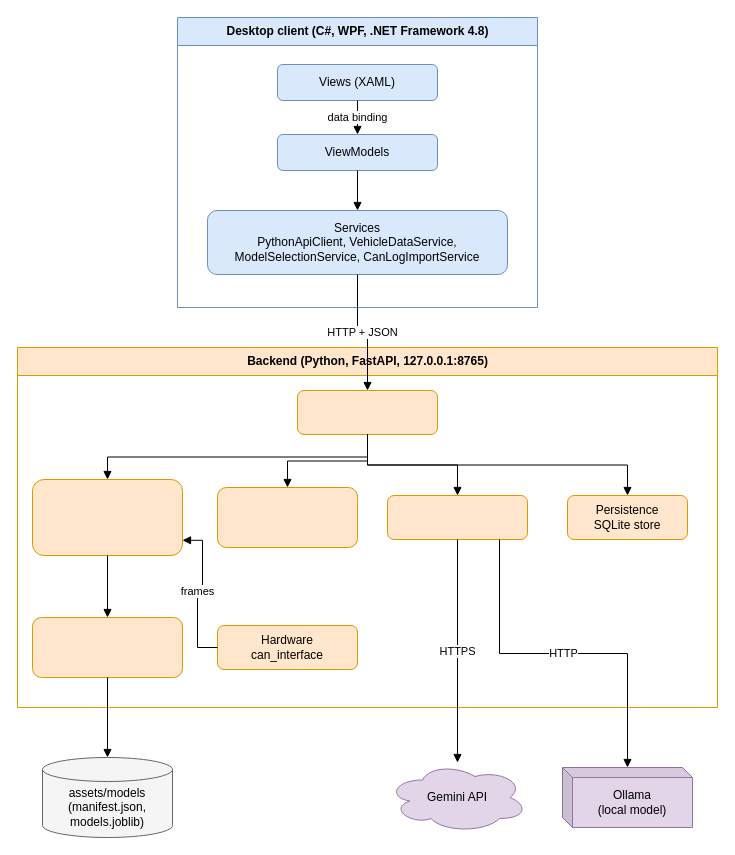
Some shapes in this 735 by 855 pixel diagram are drawn without their labels. The box of each missing label's shape, as (x1, y1, x2, y2) in pixels:
Decoding dbc_manager, signal_discovery: (216, 486, 358, 548)
Detection RealtimeEngine, vehicle_scoring, session_analyzer: (32, 478, 182, 556)
Explanation explainer/llm.py: (386, 494, 528, 540)
Model management model_manifest, model_status: (32, 616, 182, 678)
REST API server.py: (296, 390, 438, 434)
